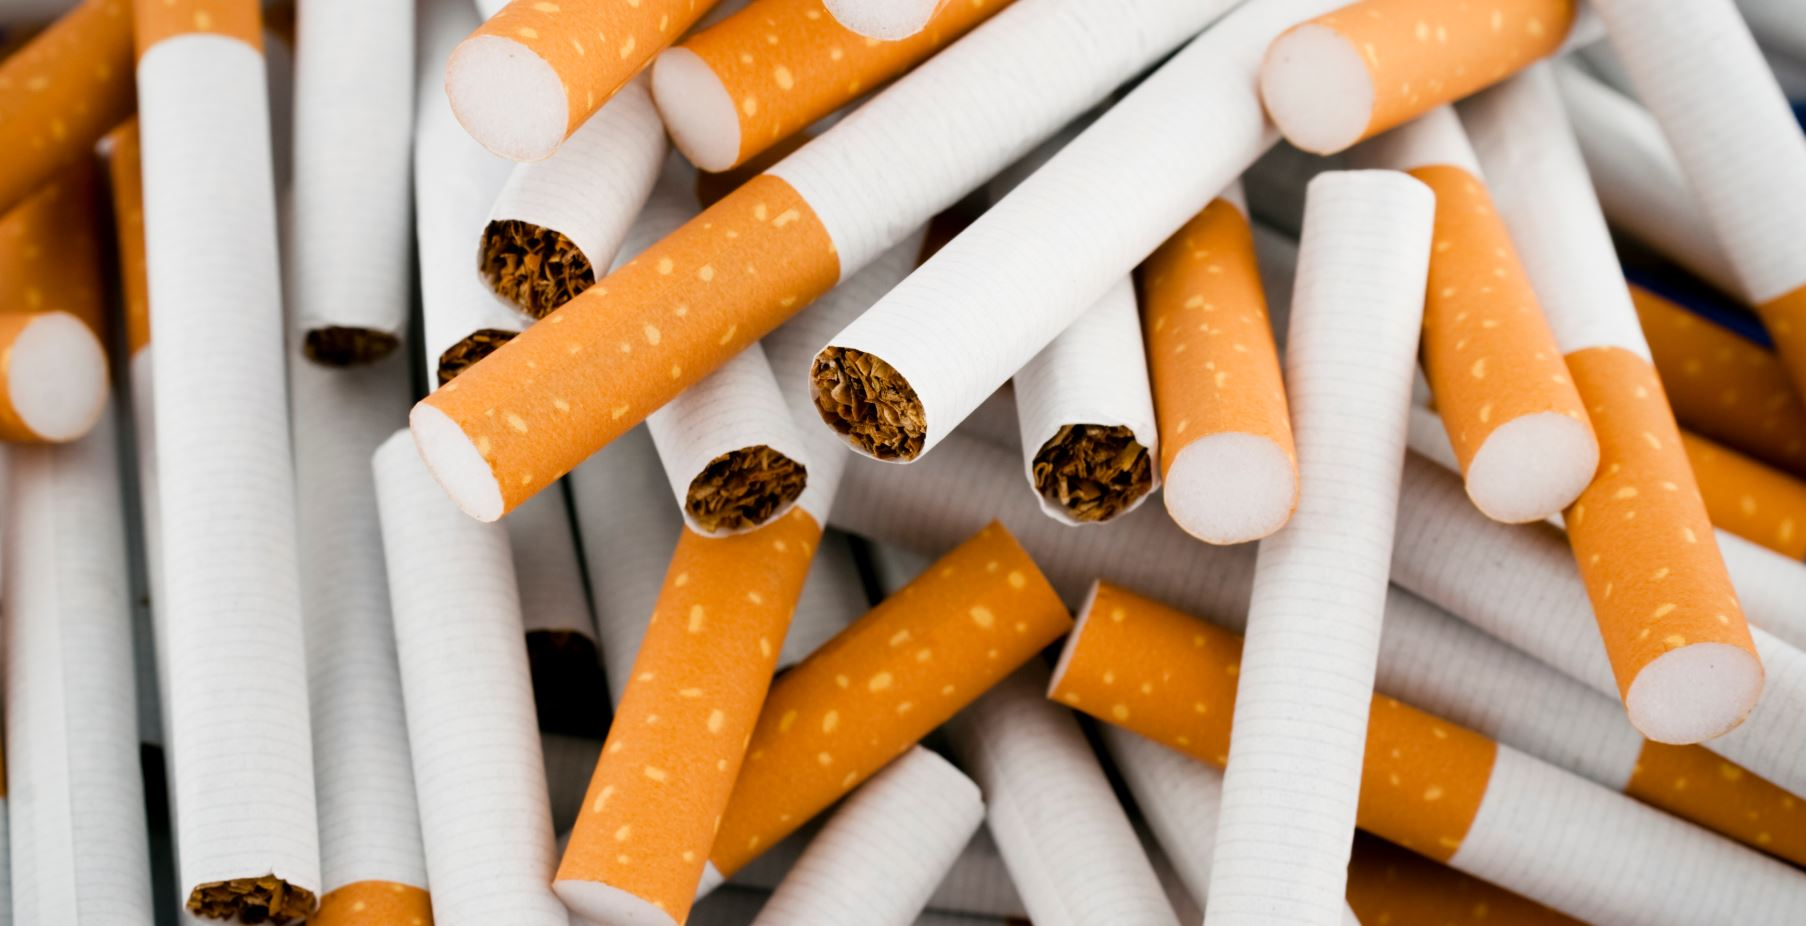cigarette: (379, 6, 1213, 511), (100, 8, 312, 925), (1237, 176, 1444, 926)
